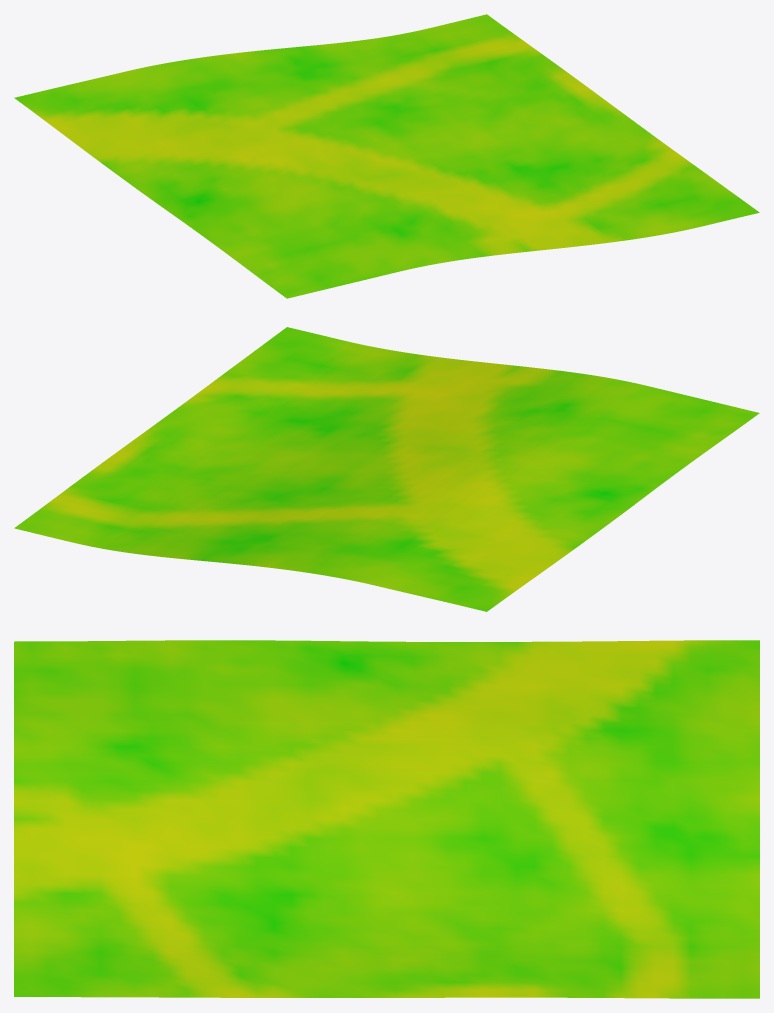
The model's file is terrain_0_2.glb.
3 renders of one model, top to bottom at view 1: azimuth 30°, elevation 25°; view 2: azimuth 150°, elevation 25°; view 3: azimuth 270°, elevation 25°, orthographic. The views are drawn at different scales.
Visible parts, largest first — view 1: terrain_0_2; view 2: terrain_0_2; view 3: terrain_0_2.
Boxes of the visible parts, <box> form: terrain_0_2: <box>14,14,759,298</box>; terrain_0_2: <box>14,327,759,611</box>; terrain_0_2: <box>14,640,759,998</box>.
Size of the model in its own units: 85 by 5.46 by 85.
